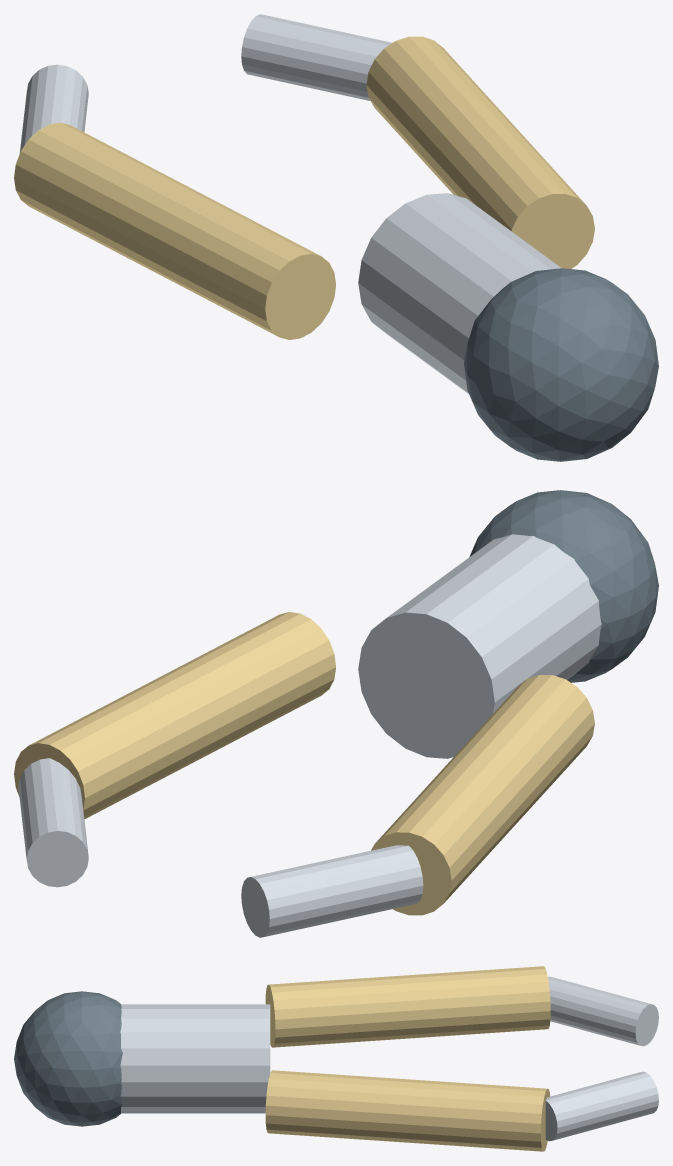
Rendered from servicer_tool_extractor.glb.
3 renders of one model, top to bottom at view 1: azimuth 30°, elevation 25°; view 2: azimuth 150°, elevation 25°; view 3: azimuth 270°, elevation 25°, orthographic. The views are drawn at different scales.
Parts seen in each view (by area): view 1: extractor jaw 0, extractor swivel, extractor jaw 1, extractor mounting spindle, extractor jaw tip 1, extractor jaw tip 0; view 2: extractor mounting spindle, extractor jaw 1, extractor jaw 0, extractor swivel, extractor jaw tip 0, extractor jaw tip 1; view 3: extractor jaw 0, extractor jaw 1, extractor mounting spindle, extractor swivel, extractor jaw tip 1, extractor jaw tip 0.
Part boxes in pixels (x1,y1,x2,y2): extractor jaw 0: [14, 122, 335, 339]; extractor swivel: [464, 268, 658, 461]; extractor jaw 1: [366, 36, 594, 268]; extractor mounting spindle: [358, 193, 561, 393]; extractor jaw tip 1: [241, 14, 391, 100]; extractor jaw tip 0: [19, 64, 88, 153]; extractor mounting spindle: [358, 534, 601, 758]; extractor jaw 1: [14, 612, 335, 819]; extractor jaw 0: [371, 675, 594, 915]; extractor swivel: [469, 490, 658, 682]; extractor jaw tip 0: [241, 845, 423, 937]; extractor jaw tip 1: [18, 758, 88, 887]; extractor jaw 0: [265, 966, 550, 1047]; extractor jaw 1: [265, 1070, 550, 1151]; extractor mounting spindle: [120, 1004, 270, 1113]; extractor swivel: [14, 991, 122, 1126]; extractor jaw tip 1: [545, 1071, 658, 1141]; extractor jaw tip 0: [548, 976, 658, 1046].
Size of the model in its own units: 0.2435 by 0.094 by 0.4451.
